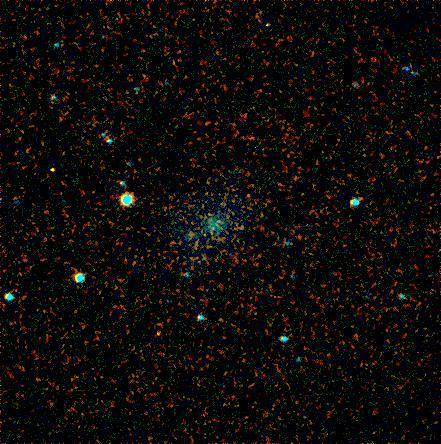star: (40, 157, 70, 187)
